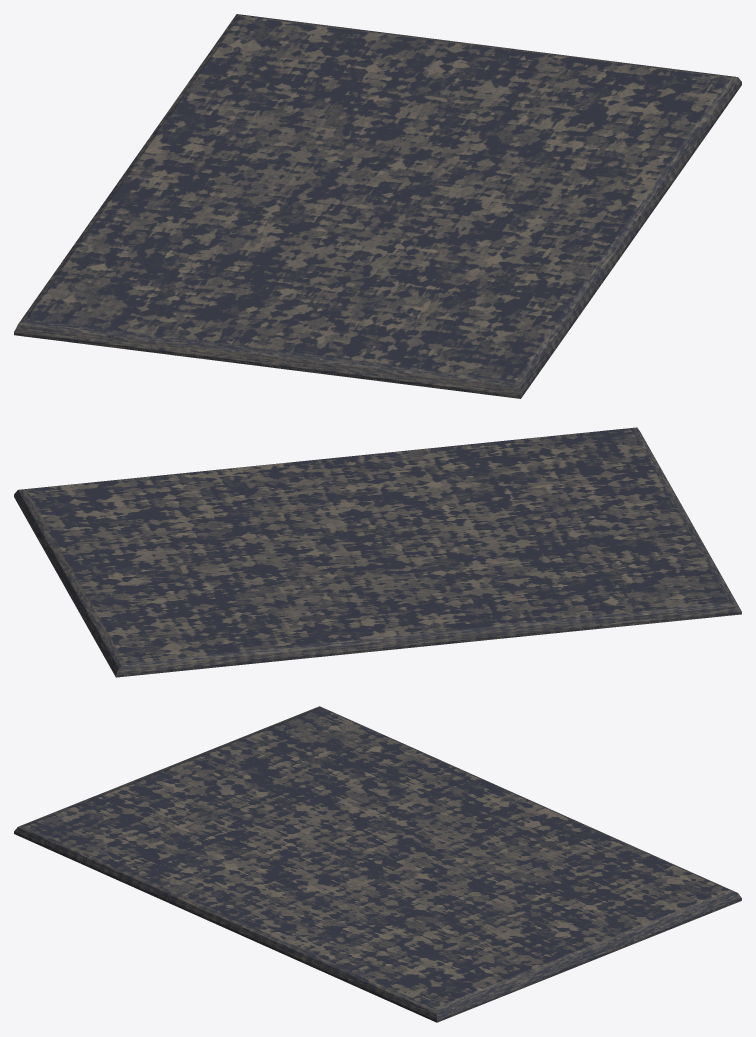
File: Bathroom_Carpet.glb
3 renders of one model, top to bottom at view 1: azimuth 30°, elevation 25°; view 2: azimuth 150°, elevation 25°; view 3: azimuth 270°, elevation 25°, orthographic. The views are drawn at different scales.
Visible parts, largest first — view 1: Carpet; view 2: Carpet; view 3: Carpet.
Boxes of the visible parts, box(x1,y1,x2,y2) form: Carpet: box(14, 14, 741, 398); Carpet: box(14, 427, 741, 677); Carpet: box(14, 706, 741, 1022).
Size of the model in its own units: 33.91 by 0.4841 by 33.56.
Materials: 1 (1 with a texture image).
